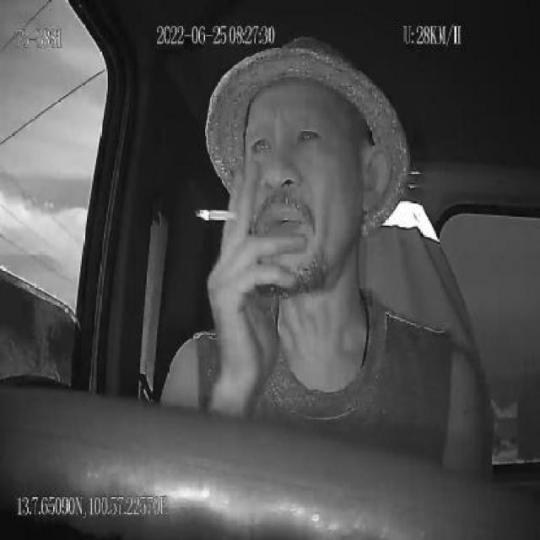smoking: (196, 199, 244, 227)
